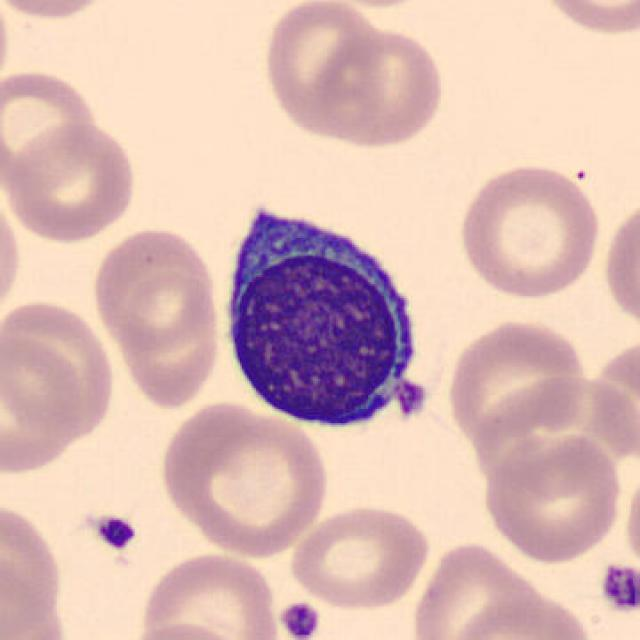Lymphocyte: (210, 192, 434, 439)
Platelets: (597, 561, 640, 615), (90, 509, 140, 554), (275, 597, 321, 640)
RBC: (154, 398, 332, 559), (454, 158, 604, 302), (478, 427, 626, 564), (443, 314, 590, 446), (259, 2, 393, 143), (306, 21, 448, 150), (107, 261, 226, 412), (87, 224, 222, 354), (4, 118, 140, 245), (286, 501, 434, 612), (0, 308, 108, 453), (407, 537, 542, 640), (133, 548, 283, 638), (0, 65, 101, 185), (0, 495, 68, 635), (444, 590, 593, 640), (591, 336, 640, 464), (599, 192, 640, 335), (530, 0, 638, 39), (0, 190, 25, 324), (0, 0, 119, 23), (123, 619, 247, 640), (622, 457, 640, 580)
